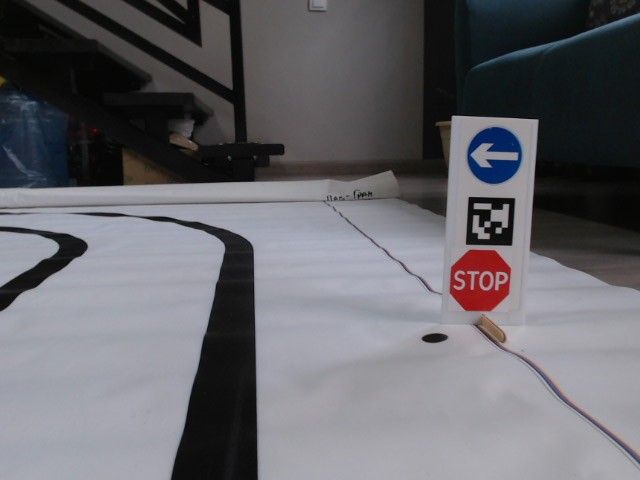Stop: (451, 249, 512, 312)
